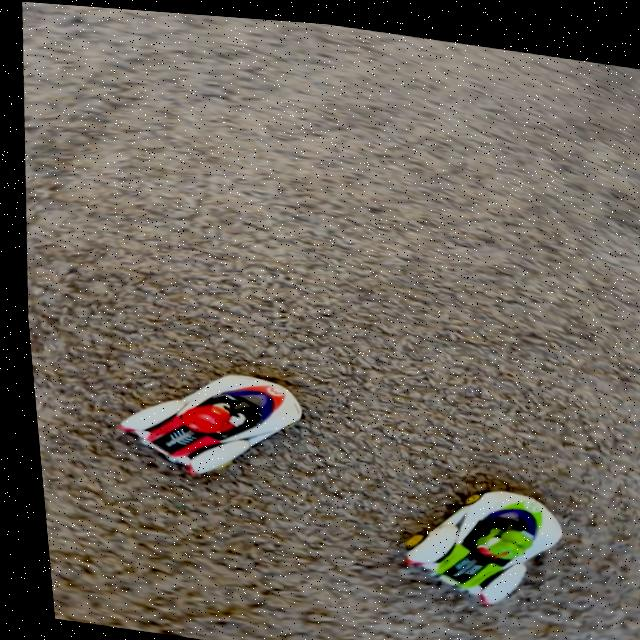mario: (81, 342, 314, 501)
yoshi: (363, 447, 584, 628)
